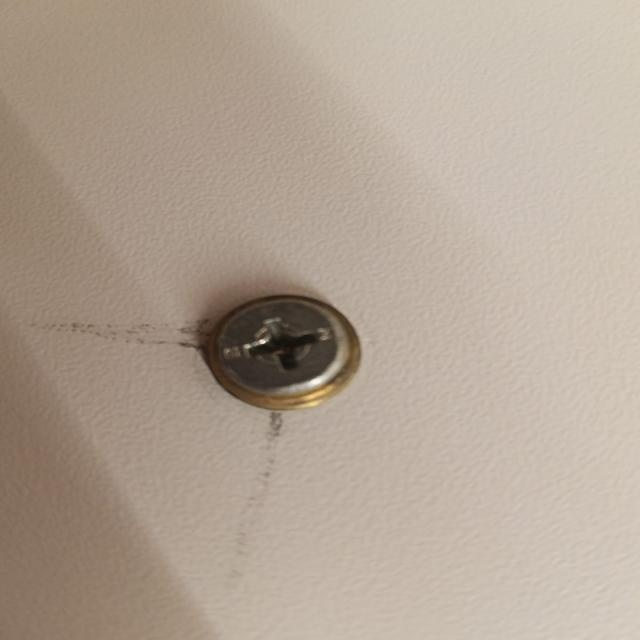phillips: (217, 295, 350, 397)
